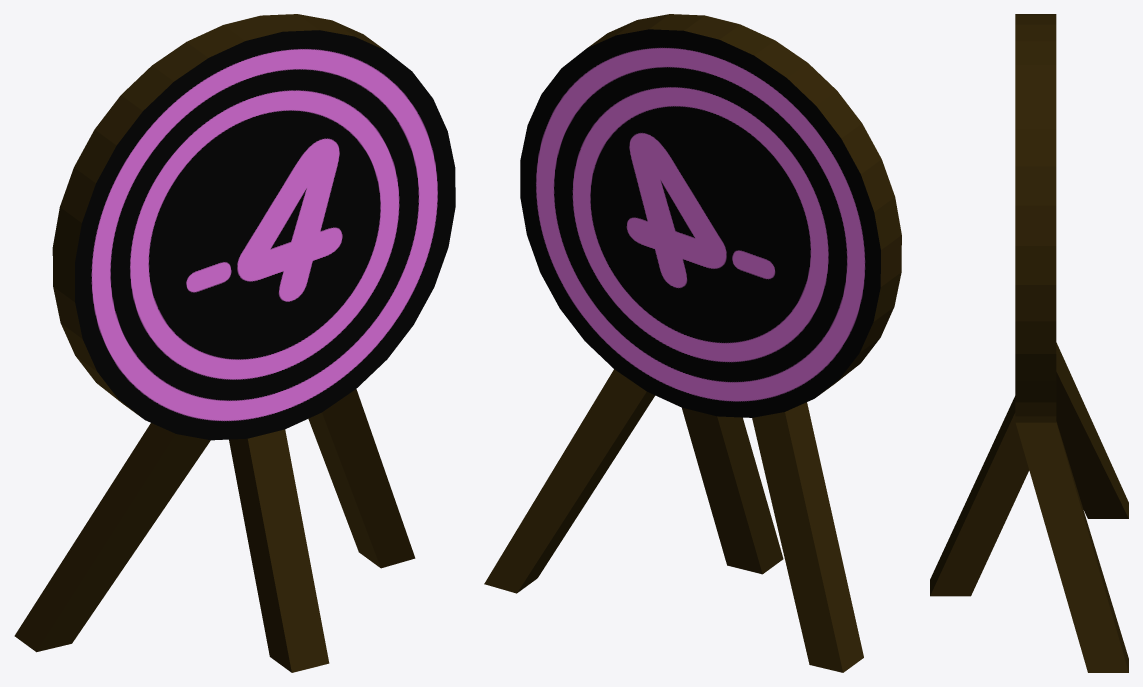
The model's file is renk9.fbx.
3 views of the same model, side by side, from view 1: azimuth 30°, elevation 25°; view 2: azimuth 150°, elevation 25°; view 3: azimuth 270°, elevation 25° (orthographic). The views are drawn at different scales.
Visible parts, largest first — view 1: Cylinder; view 2: Cylinder; view 3: Cylinder.
Part boxes in pixels (left/top/right/bottom): Cylinder: left=14, top=14, right=455, bottom=672; Cylinder: left=484, top=14, right=901, bottom=672; Cylinder: left=930, top=14, right=1128, bottom=672.
Size of the model in its own units: 199 by 299 by 97.2.
Materials: 2 (1 with a texture image).
